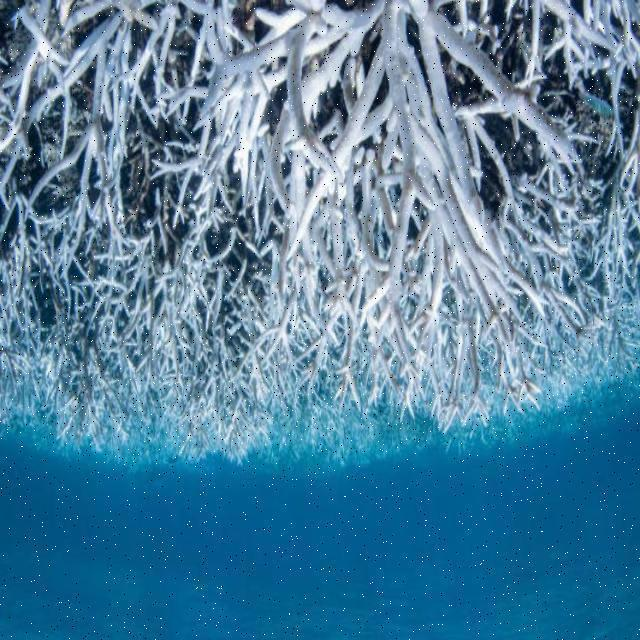Bleached: (2, 1, 636, 474)
